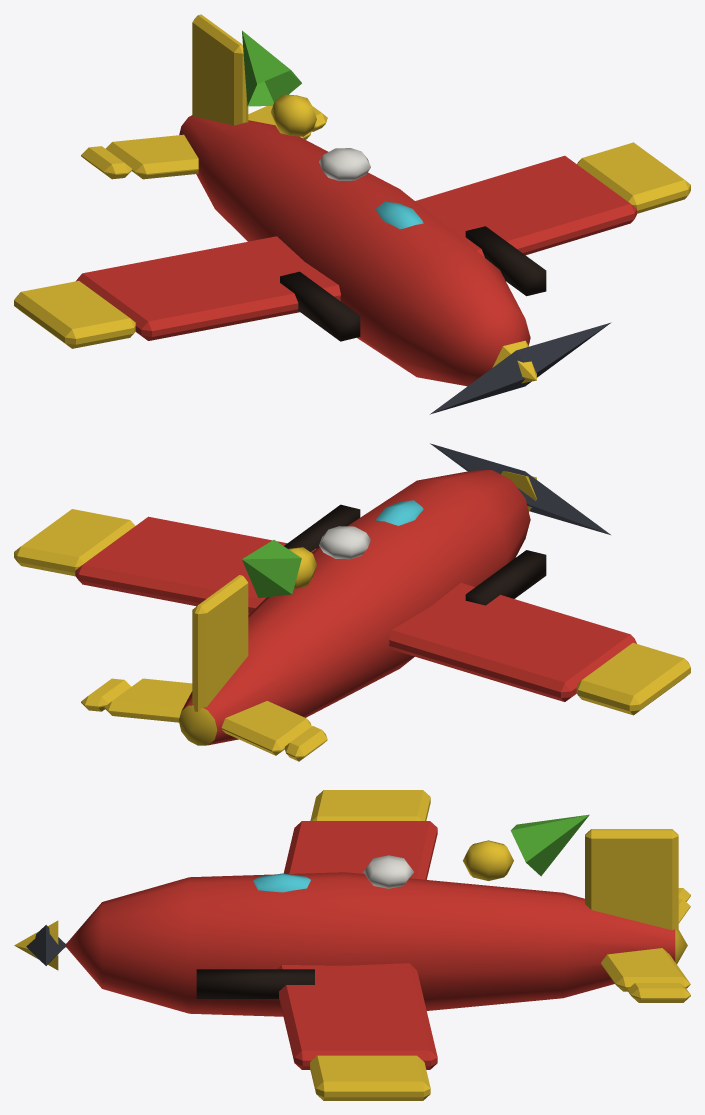
3 renders of one model, top to bottom at view 1: azimuth 30°, elevation 25°; view 2: azimuth 150°, elevation 25°; view 3: azimuth 270°, elevation 25°, orthographic. The views are drawn at different scales.
Parts seen in each view (by area): view 1: as_0_base, as_1_torreta; view 2: as_0_base, as_1_torreta; view 3: as_0_base, as_1_torreta.
Part boxes in pixels (x1,y1,x2,y2): as_0_base: [14, 14, 690, 386]; as_1_torreta: [430, 322, 611, 414]; as_0_base: [14, 470, 690, 761]; as_1_torreta: [430, 443, 610, 534]; as_0_base: [66, 790, 690, 1100]; as_1_torreta: [14, 920, 66, 970].
Bounding box in the file's own units: 1.13 × 0.3497 × 1.09.
